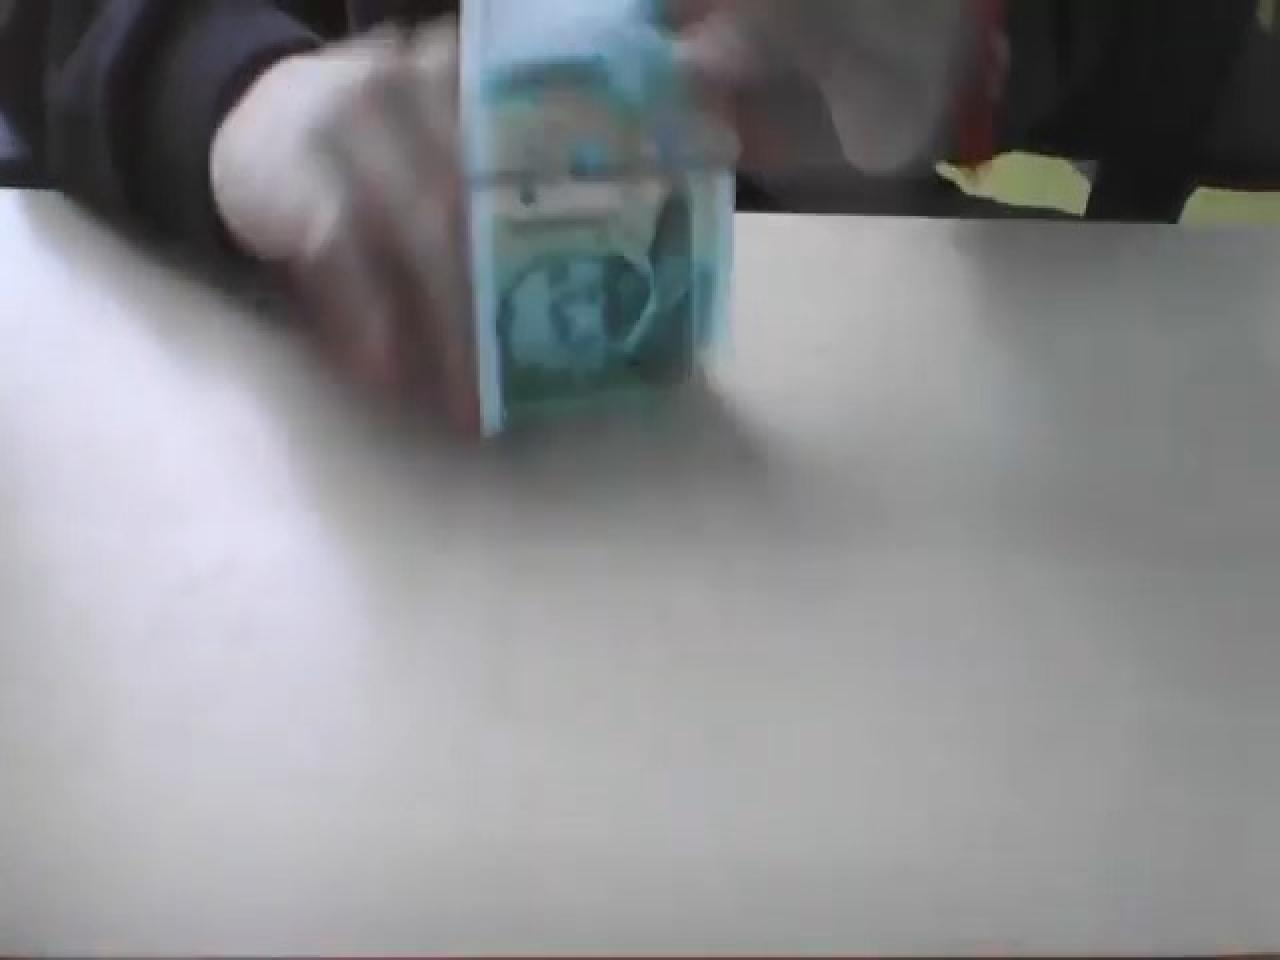100leva: (454, 0, 740, 443)
